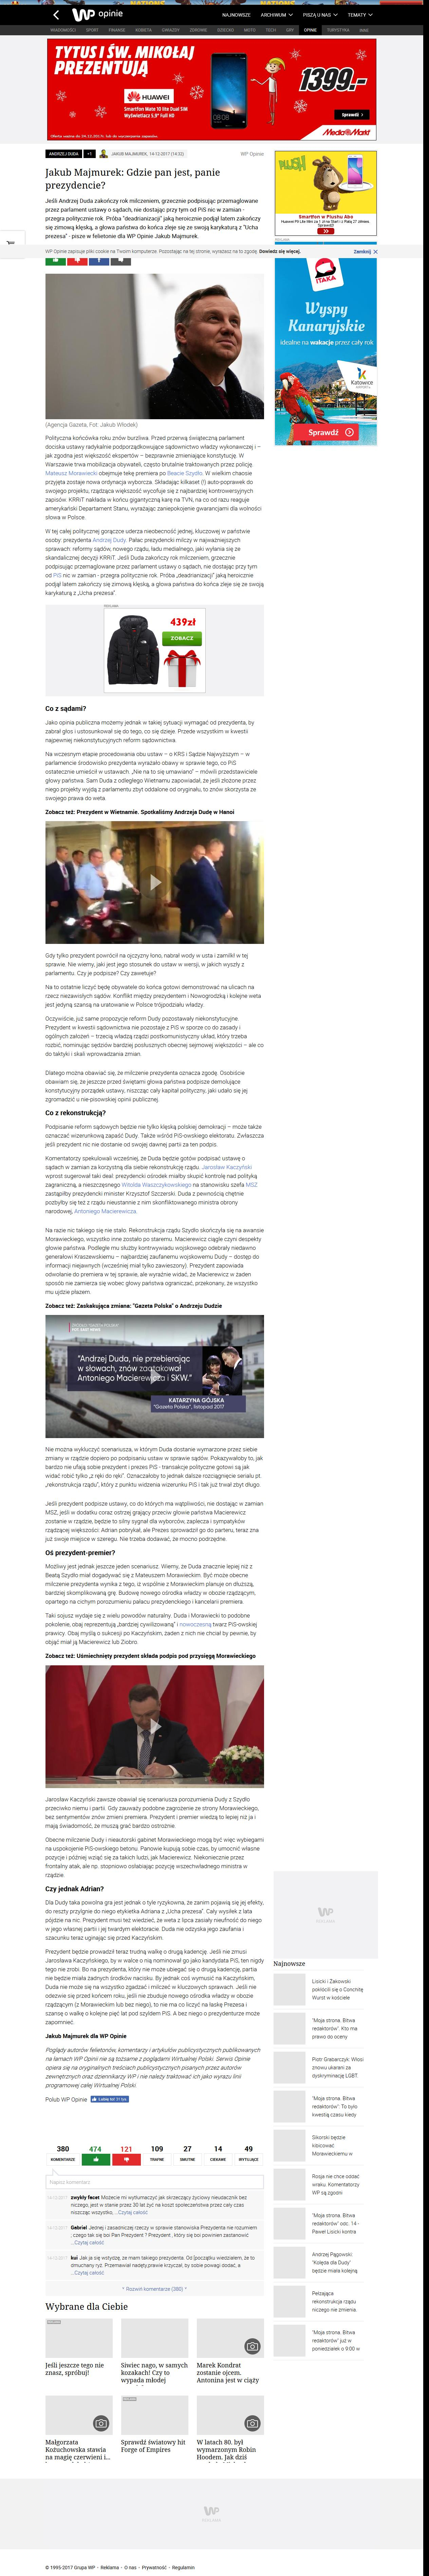title: (44, 168, 220, 191)
